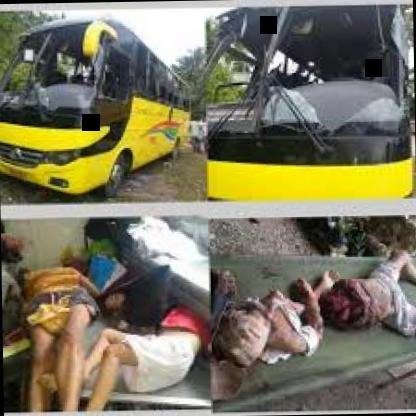accident: (206, 3, 416, 198)
